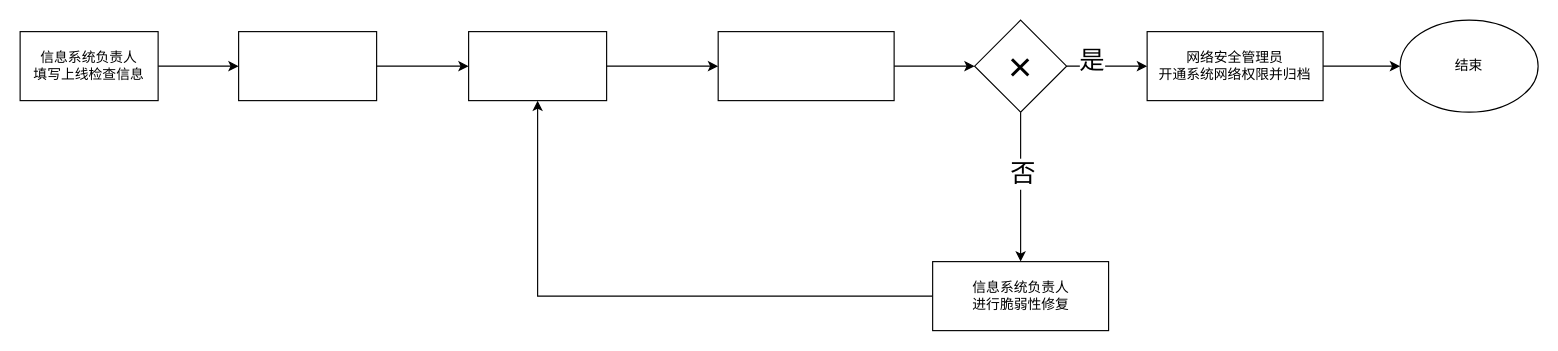
Some shapes in this 1558 by 351 pixel diagram are drawn without their labels. Each missing label, with the centre of its shape:
"网络安全管理员 确认信息" goes at pixel 307 65.
"网络安全管理员 确认系统是否具备上线条件" goes at pixel 805 65.
"驻场安服人员 进行检查" goes at pixel 537 65.
